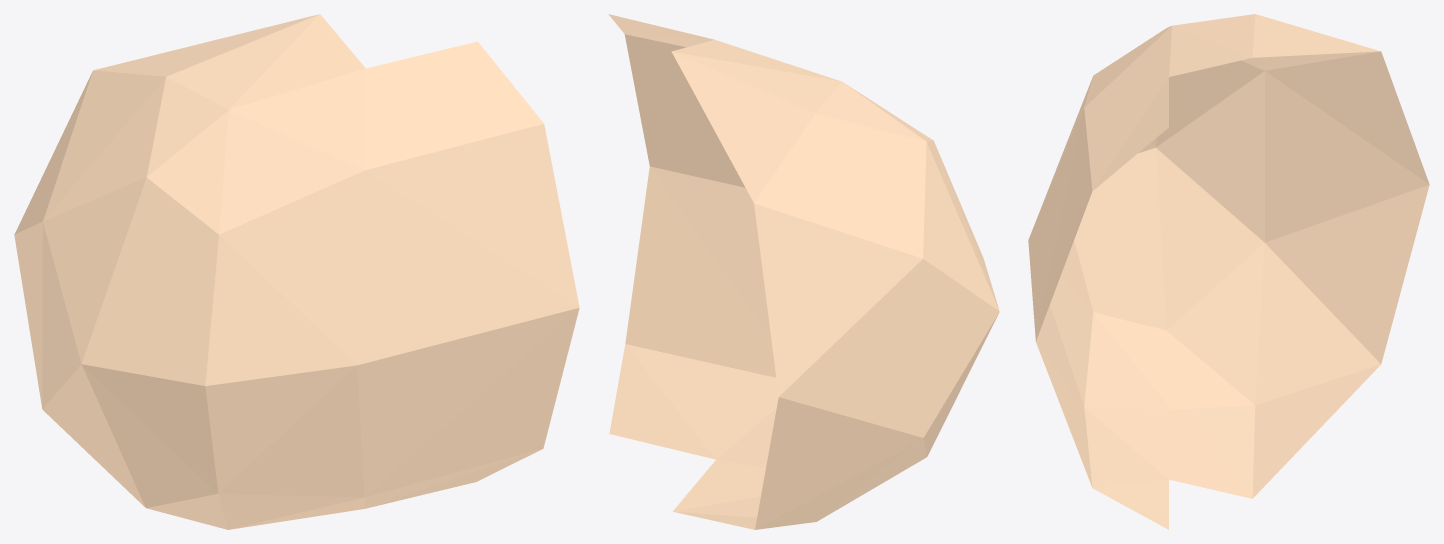
Rendered from head2.glb.
3 views of the same model, side by side, from view 1: azimuth 30°, elevation 25°; view 2: azimuth 150°, elevation 25°; view 3: azimuth 270°, elevation 25° (orthographic). The views are drawn at different scales.
Visible parts, largest first — view 1: tomodachi-2026-03-05-16-34-19-027.007; view 2: tomodachi-2026-03-05-16-34-19-027.007; view 3: tomodachi-2026-03-05-16-34-19-027.007.
Part boxes in pixels (x1,y1,x2,y2): tomodachi-2026-03-05-16-34-19-027.007: (14, 14, 579, 529); tomodachi-2026-03-05-16-34-19-027.007: (608, 14, 999, 529); tomodachi-2026-03-05-16-34-19-027.007: (1028, 14, 1429, 529).
Bounding box in the file's own units: 0.9763 × 1.04 × 0.8567.
Materials: 1 (1 with a texture image).
